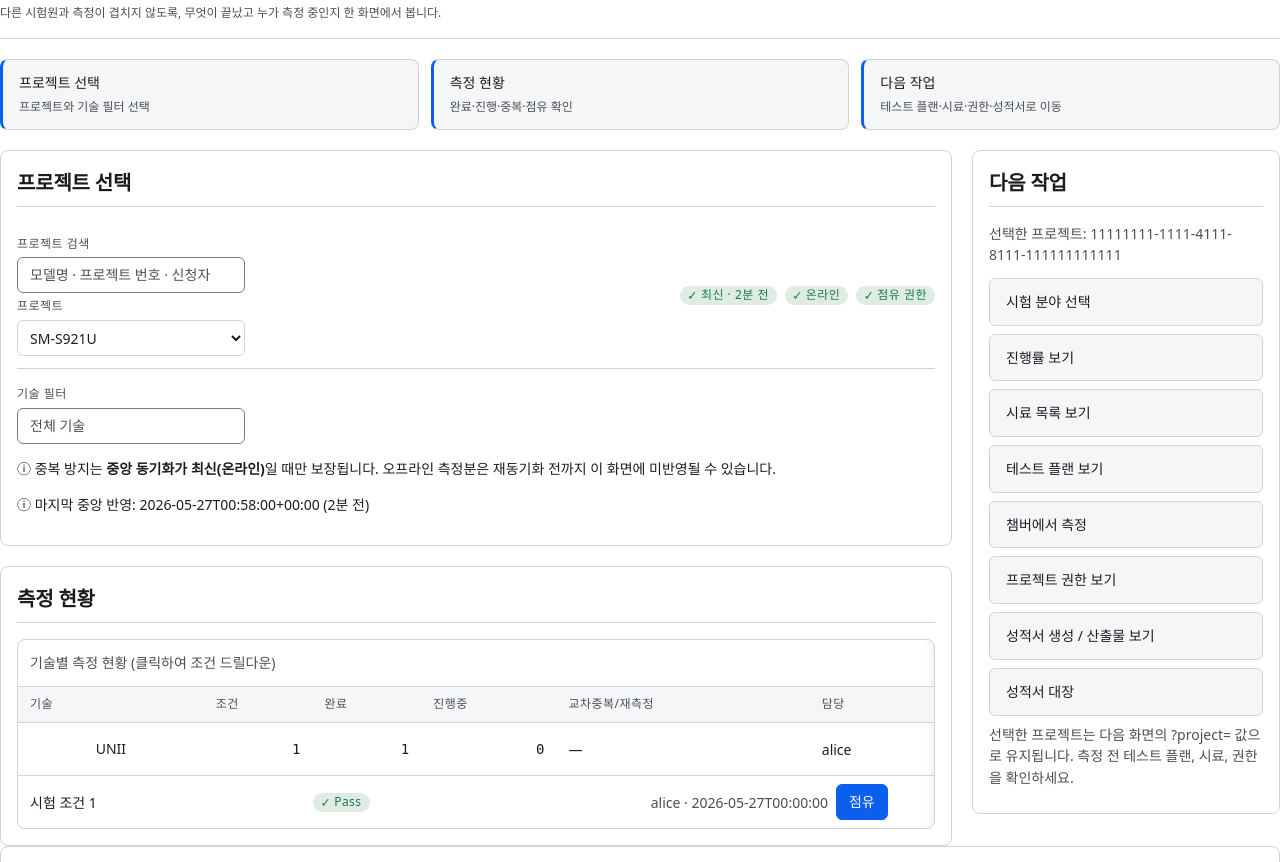
Test: FE-P3-write claim controls — optimistic write + reconcile › surfaces a 409 conflict when another operator already holds the condition
This screenshot has width=1280, height=862.
Click the button with test id "condition-claim-acquire" at [862, 802], box [836,784,888,820]
(page scrolled)
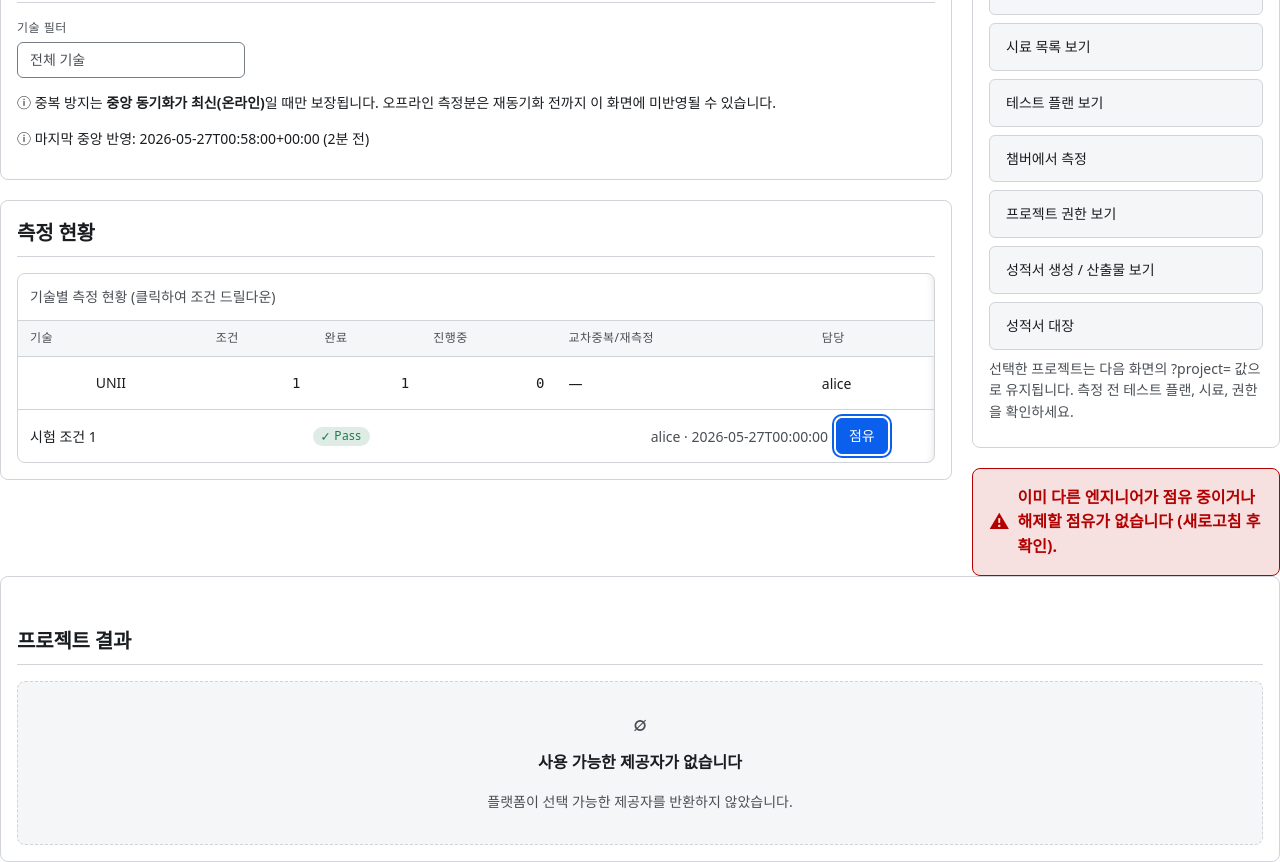
Check: the message "이미 다른 엔지니어가 점유 중이거나 해제할 점유가 없습니다 (새로고침 후 확인)." is shown, box [972,468,1279,576]
Check: the message with test id "claim-error" shows "점유", box [1018,486,1260,557]
